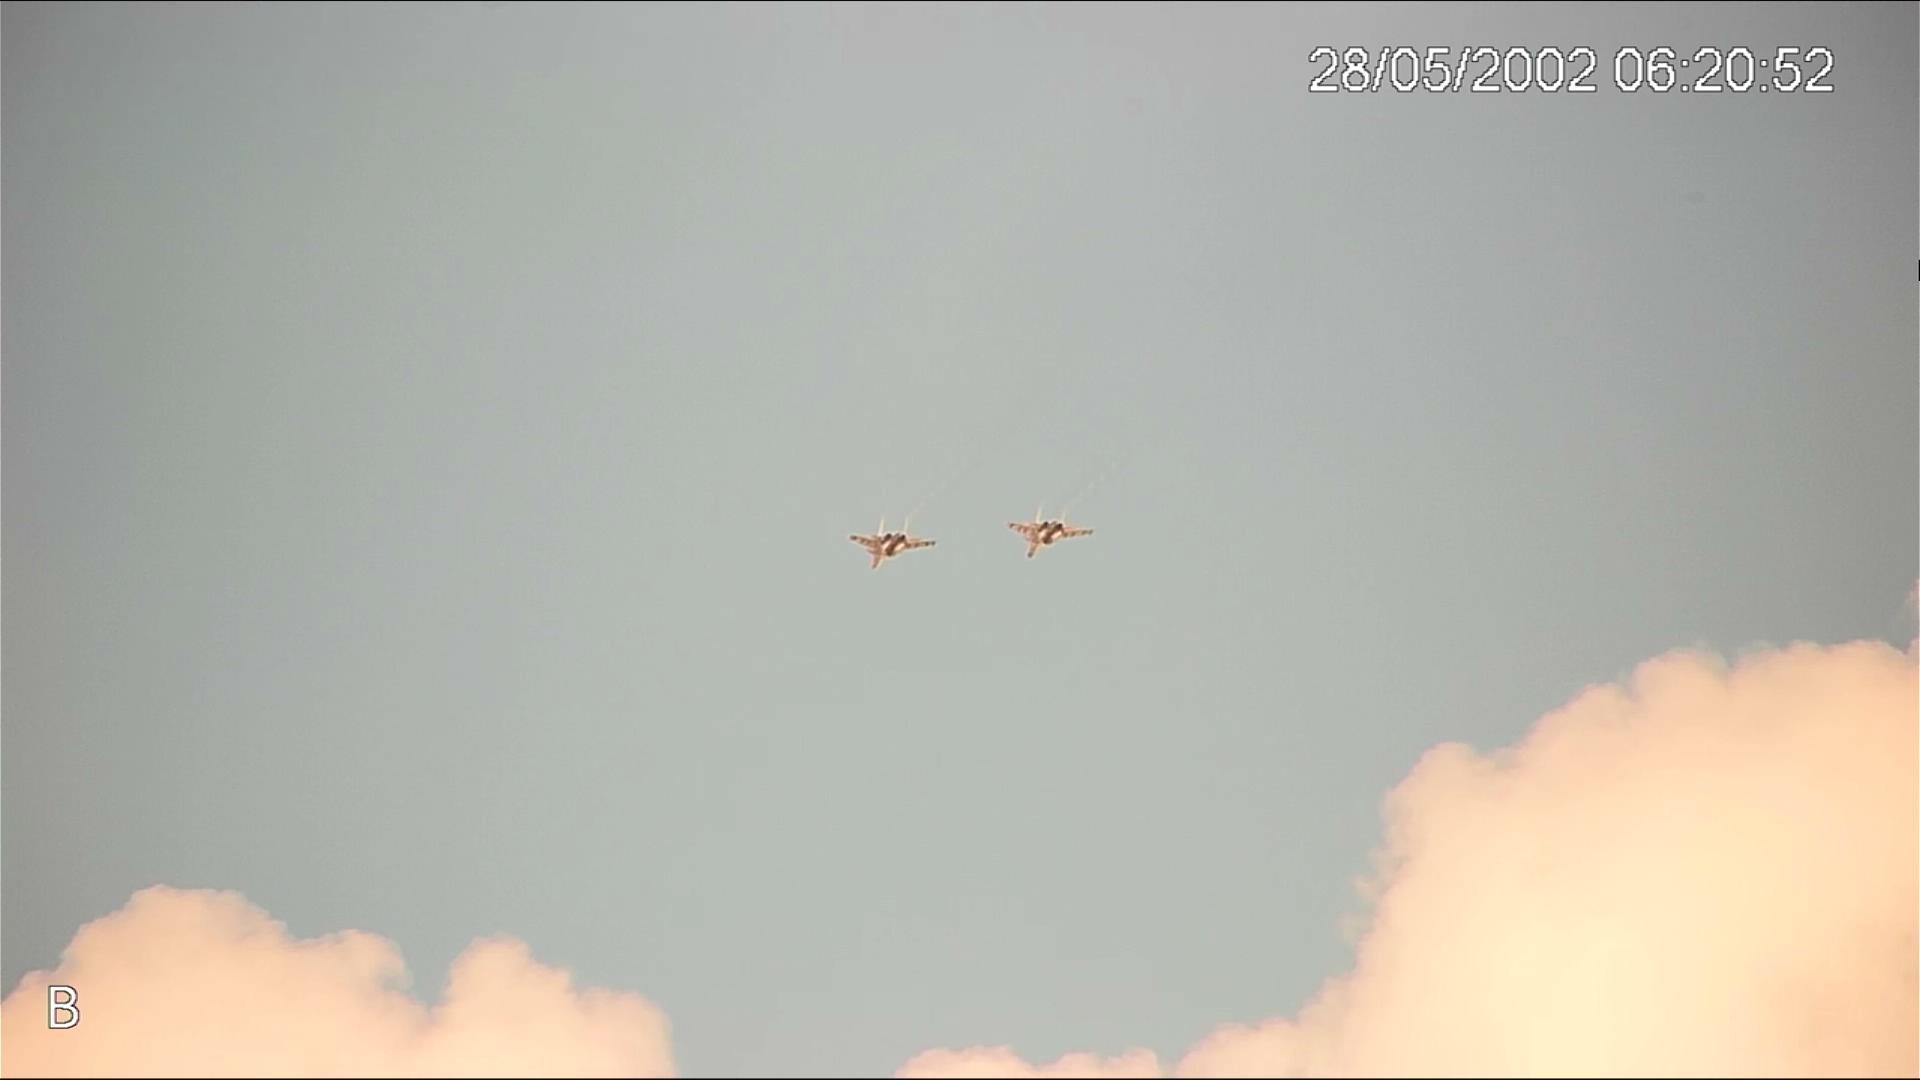SU_30: (843, 512, 942, 575), (1001, 506, 1093, 568)
